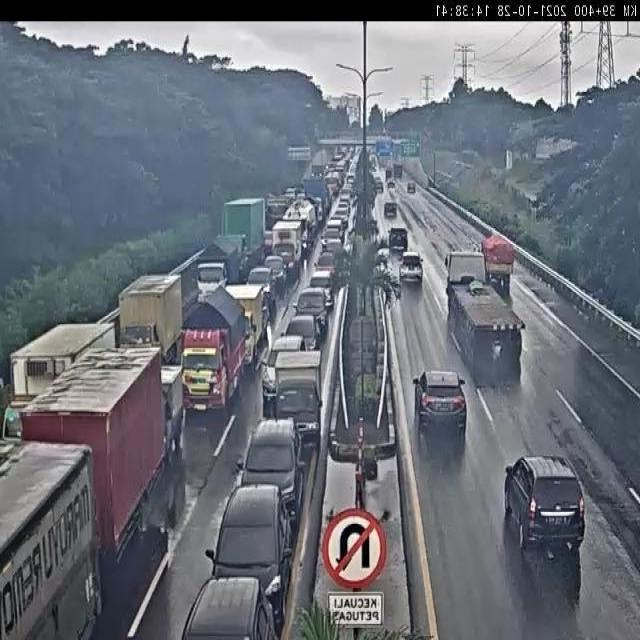Car: (501, 454, 591, 548), (208, 483, 289, 584), (177, 581, 278, 640), (236, 420, 299, 508), (419, 368, 467, 442), (261, 338, 297, 404), (245, 270, 276, 308), (288, 316, 316, 351), (294, 290, 325, 317), (311, 271, 333, 307), (400, 251, 422, 284), (265, 257, 286, 285), (386, 230, 411, 250), (320, 230, 344, 245), (384, 200, 397, 220)
Truck: (0, 348, 162, 640), (446, 258, 518, 373), (195, 194, 266, 298), (179, 291, 240, 407), (12, 324, 112, 389), (117, 272, 182, 357), (272, 351, 322, 451), (272, 194, 319, 270), (271, 352, 324, 418), (232, 284, 264, 360), (479, 236, 517, 283)
